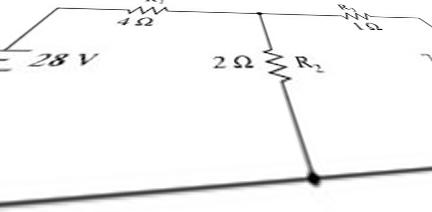resistor: (258, 42, 293, 89), (117, 3, 174, 14), (336, 10, 379, 18)
